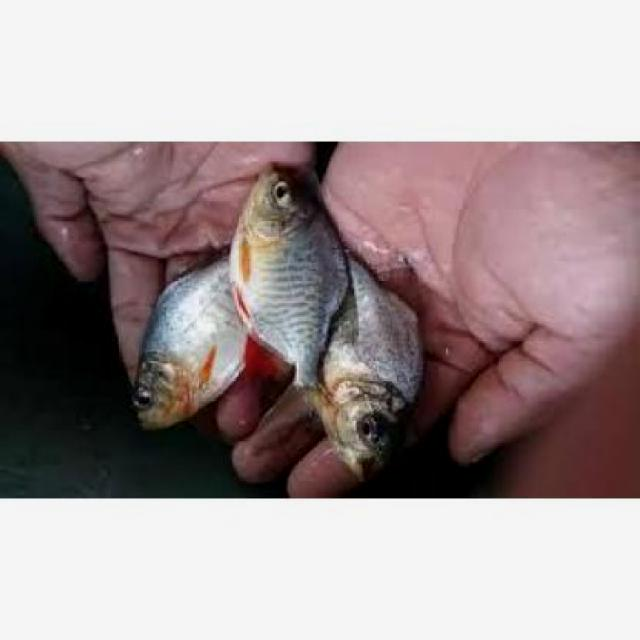ikan-pacu: (237, 162, 348, 368), (132, 252, 246, 434), (322, 259, 422, 464)
